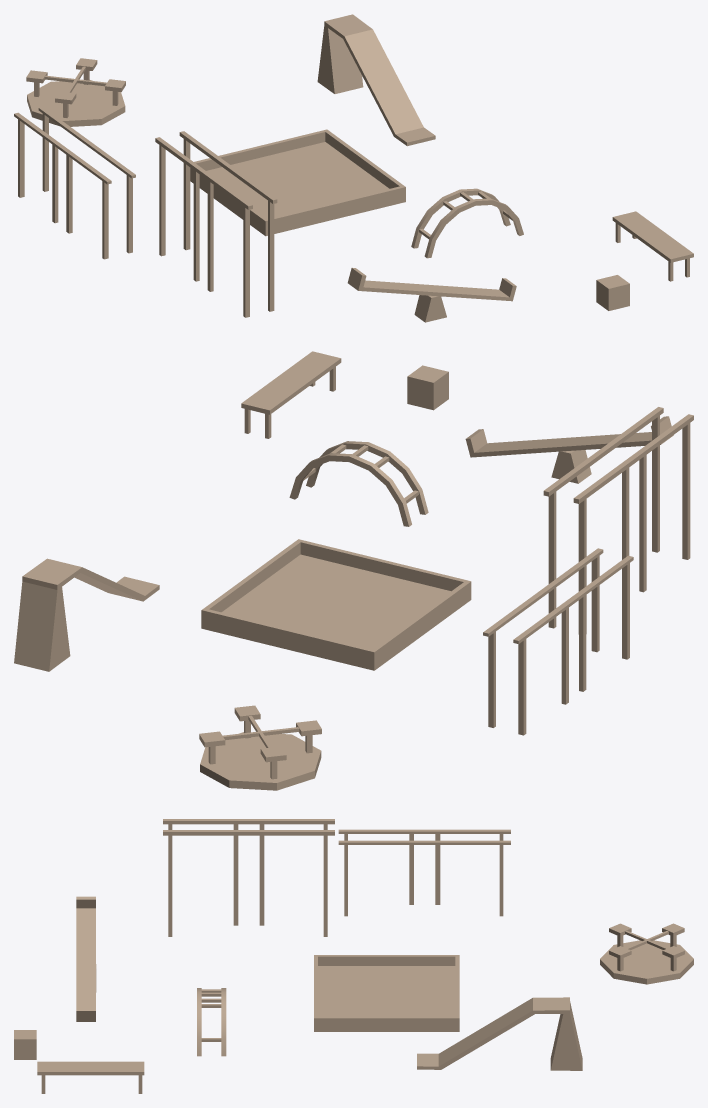
File: 1playground20x30.fbx
3 renders of one model, top to bottom at view 1: azimuth 30°, elevation 25°; view 2: azimuth 150°, elevation 25°; view 3: azimuth 270°, elevation 25°, orthographic. The views are drawn at different scales.
Visible parts, largest first — view 1: pCube380; view 2: pCube380; view 3: pCube380.
Part boxes in pixels (box(x1,y1,x2,y2)): pCube380: box(14, 14, 693, 322); pCube380: box(14, 351, 693, 790); pCube380: box(14, 819, 693, 1093).
Size of the model in its own units: 19.89 by 5.12 by 29.93.
